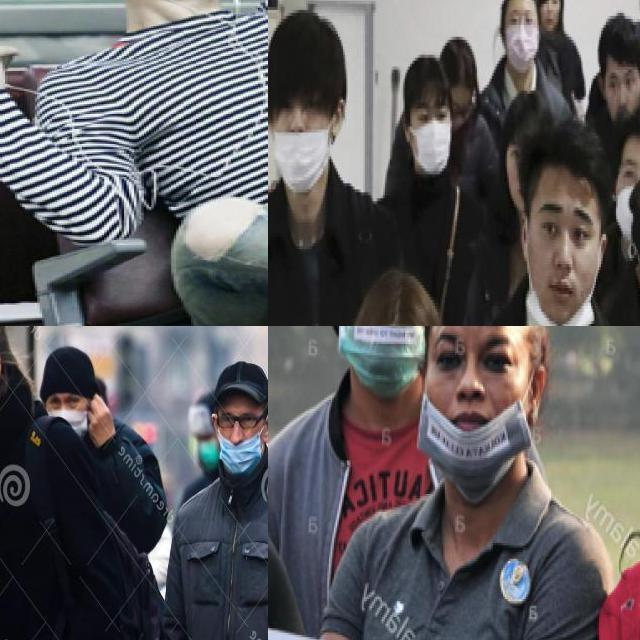hairnet: (429, 367, 522, 490), (273, 117, 330, 190), (531, 260, 592, 325), (219, 424, 262, 474)
